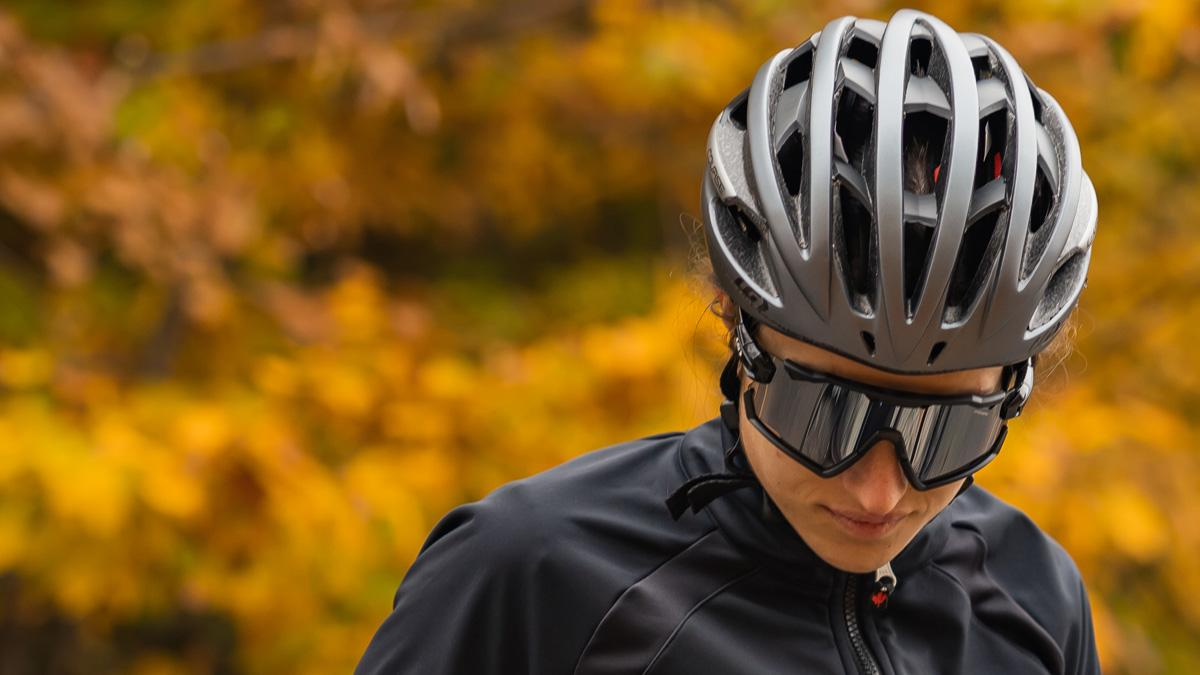helmet: (676, 0, 1148, 392)
